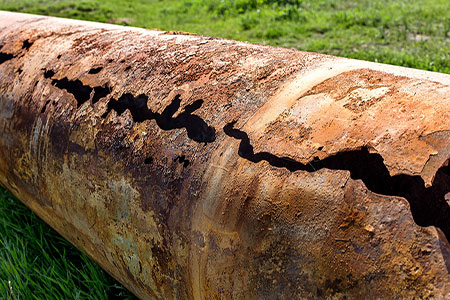hole: (224, 118, 300, 180), (320, 143, 393, 206), (156, 88, 221, 152), (399, 167, 446, 243), (103, 91, 155, 135), (59, 73, 93, 108), (36, 96, 62, 120), (90, 83, 114, 106), (83, 59, 107, 80), (38, 62, 58, 85), (17, 35, 37, 54), (173, 153, 192, 171), (0, 46, 15, 65), (139, 151, 156, 167), (13, 65, 28, 78), (119, 63, 135, 74), (53, 53, 65, 64), (106, 55, 114, 66), (32, 79, 41, 88), (119, 56, 127, 66)
